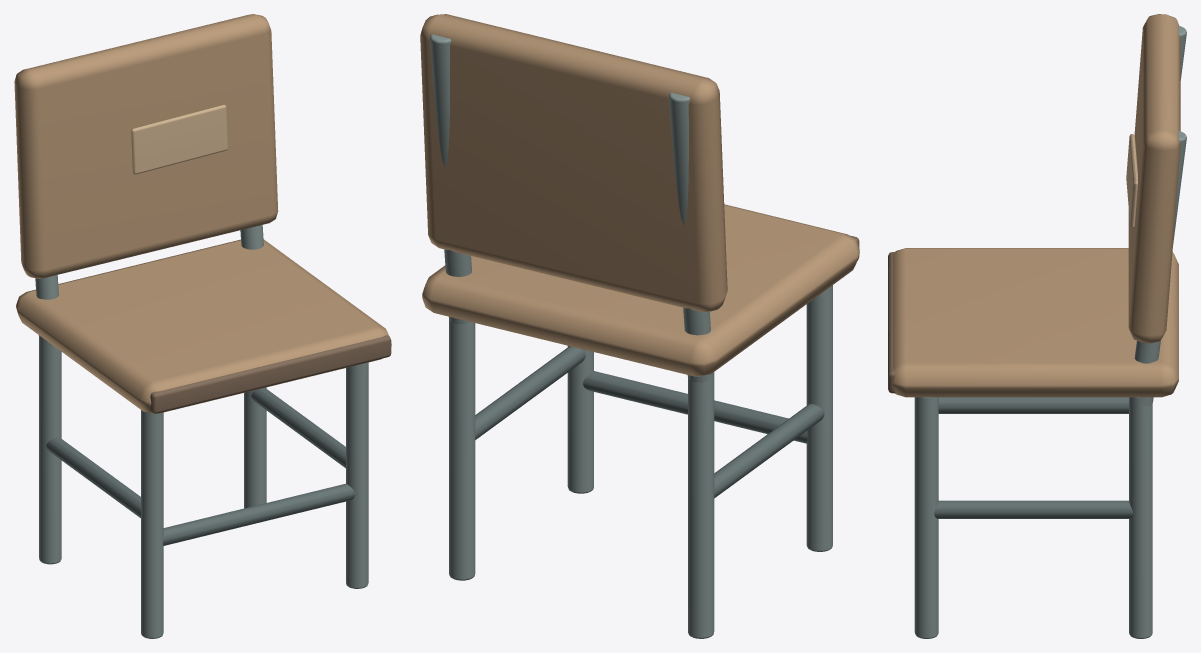
The model's file is classroom_student_chair.glb.
3 renders of one model, left to right at view 1: azimuth 30°, elevation 25°; view 2: azimuth 150°, elevation 25°; view 3: azimuth 270°, elevation 25°, orthographic. The views are drawn at different scales.
Visible parts, largest first — view 1: Chair_backrest, Chair_seat, Chair_seat_front_edge, Chair_front_leg, Chair_front_leg.001, Chair_rear_leg, Chair_backrest_wear_patch, Chair_front_crossbar, Chair_rear_leg.001, Chair_side_crossbar_L, Chair_side_crossbar_R; view 2: Chair_backrest, Chair_seat, Chair_rear_leg, Chair_rear_leg.001, Chair_front_leg, Chair_front_crossbar, Chair_front_leg.001, Chair_side_crossbar_L, Chair_side_crossbar_R, Chair_back_upright, Chair_back_upright.001; view 3: Chair_seat, Chair_backrest, Chair_front_leg.001, Chair_rear_leg.001, Chair_side_crossbar_R, Chair_side_crossbar_L, Chair_back_upright.001, Chair_backrest_wear_patch, Chair_seat_front_edge.
Boxes of the visible parts, <box> form: Chair_backrest: <box>14,14,278,278</box>; Chair_seat: <box>16,239,391,413</box>; Chair_seat_front_edge: <box>150,335,391,413</box>; Chair_front_leg: <box>141,410,163,638</box>; Chair_front_leg.001: <box>346,362,368,588</box>; Chair_rear_leg: <box>39,337,61,564</box>; Chair_backrest_wear_patch: <box>131,105,227,174</box>; Chair_front_crossbar: <box>163,483,355,545</box>; Chair_rear_leg.001: <box>244,387,266,508</box>; Chair_side_crossbar_L: <box>46,437,140,518</box>; Chair_side_crossbar_R: <box>251,388,345,468</box>; Chair_backrest: <box>420,14,727,311</box>; Chair_seat: <box>422,204,859,376</box>; Chair_rear_leg: <box>688,372,714,638</box>; Chair_rear_leg.001: <box>449,319,475,580</box>; Chair_front_leg: <box>806,285,832,551</box>; Chair_front_crossbar: <box>583,371,807,443</box>; Chair_front_leg.001: <box>567,346,593,493</box>; Chair_side_crossbar_L: <box>714,404,824,498</box>; Chair_side_crossbar_R: <box>475,346,585,439</box>; Chair_back_upright: <box>669,92,712,382</box>; Chair_back_upright.001: <box>430,34,471,323</box>; Chair_seat: <box>893,248,1178,397</box>; Chair_backrest: <box>1128,14,1180,343</box>; Chair_front_leg.001: <box>914,397,938,638</box>; Chair_rear_leg.001: <box>1129,397,1152,638</box>; Chair_side_crossbar_R: <box>934,500,1133,518</box>; Chair_side_crossbar_L: <box>938,397,1128,413</box>; Chair_back_upright.001: <box>1134,131,1186,406</box>; Chair_backrest_wear_patch: <box>1126,134,1137,227</box>; Chair_seat_front_edge: <box>888,252,895,393</box>.
Size of the model in its own units: 0.44 by 0.815 by 0.4327.
